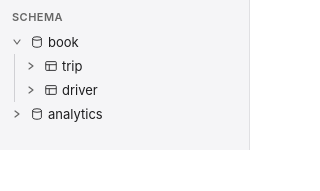
Scenario: schema tree › colors a column type label
Click the button named "Expand" next to "trip": x=33, y=66 [26, 61, 40, 71]
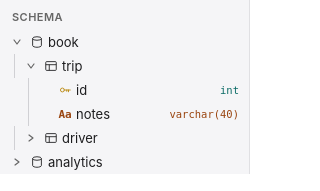
expect the text with class "tone-text" reads "Aa": met, box [58, 108, 72, 120]
